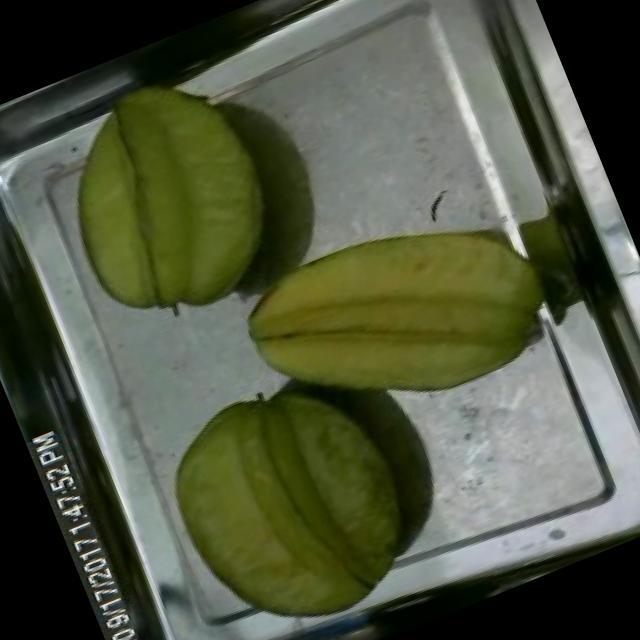fruit: (214, 164, 584, 468), (134, 340, 450, 640), (17, 44, 312, 356)
